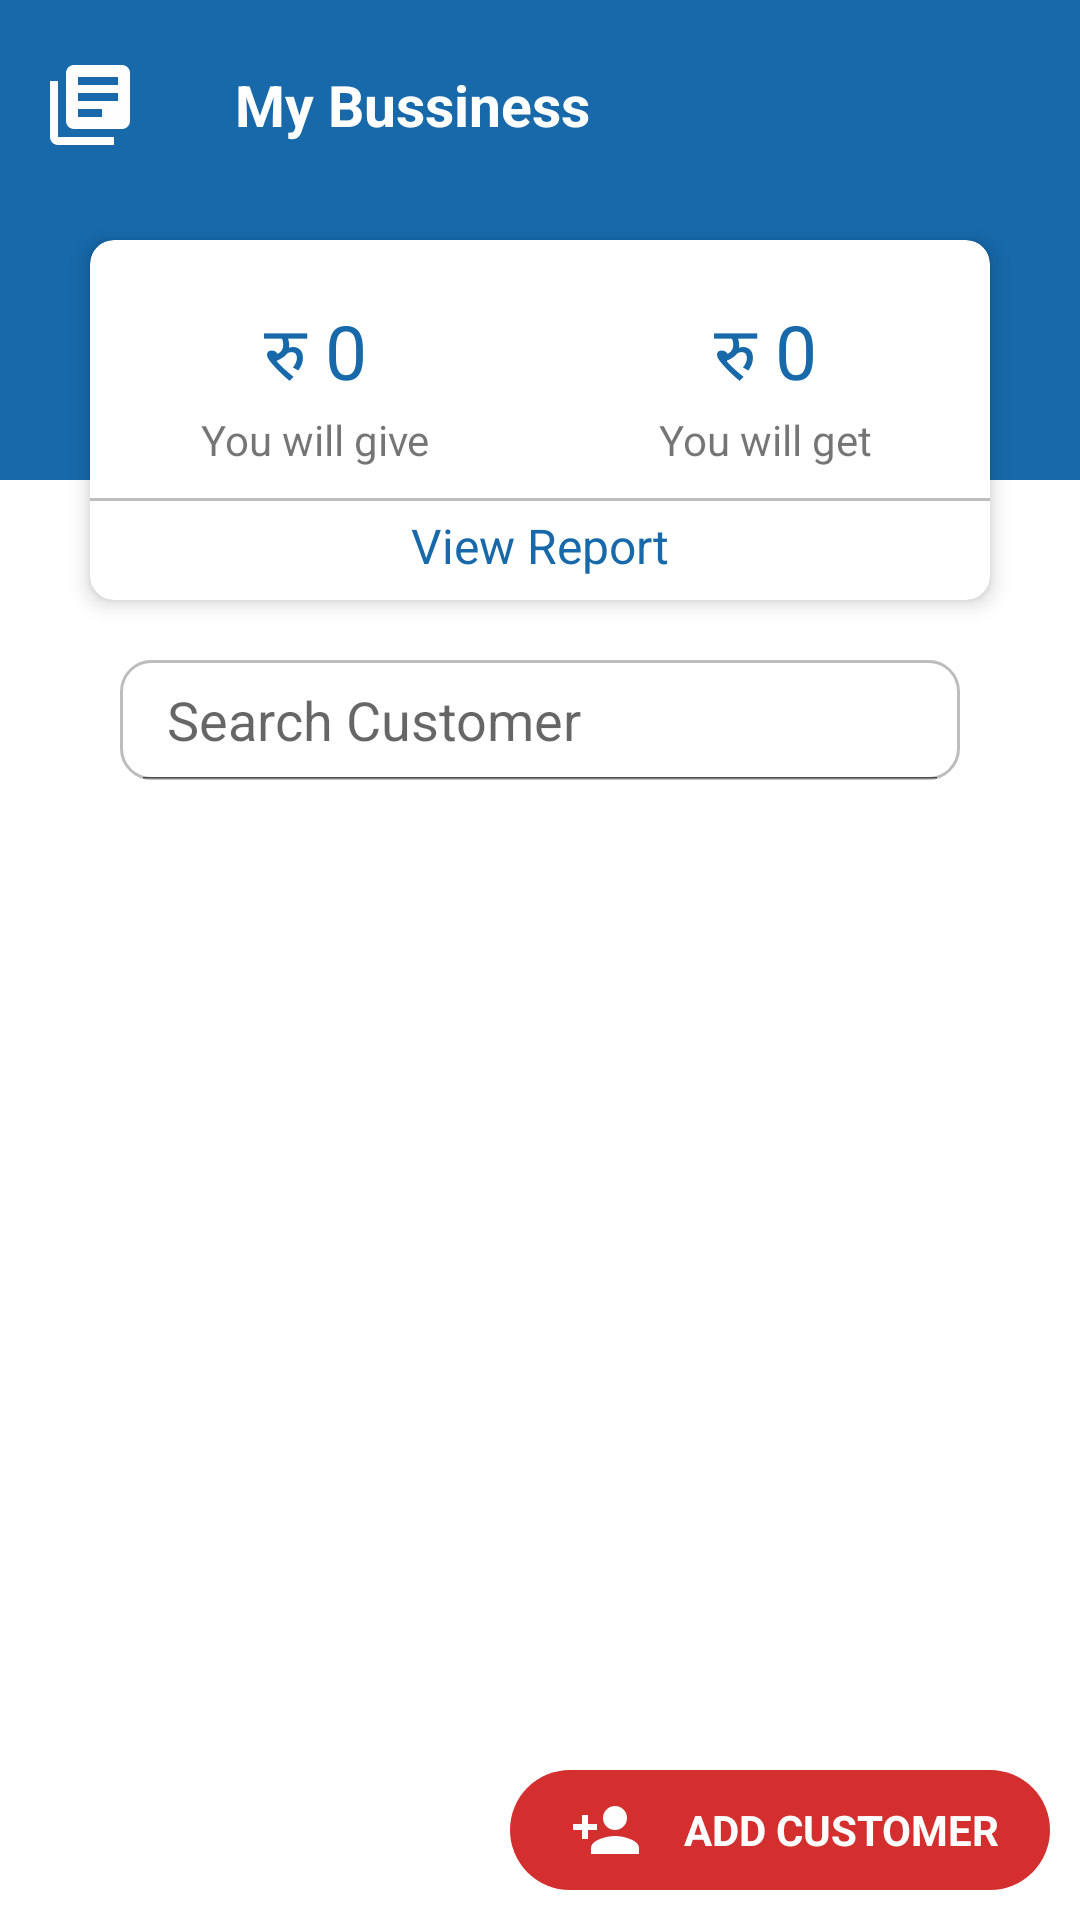

Icons on this 1080×1920 Android screen, each with its box as {"x1": x1, "y1": y1, "x2": x2, "y2": y2}:
library books: {"x1": 50, "y1": 65, "x2": 130, "y2": 145}
